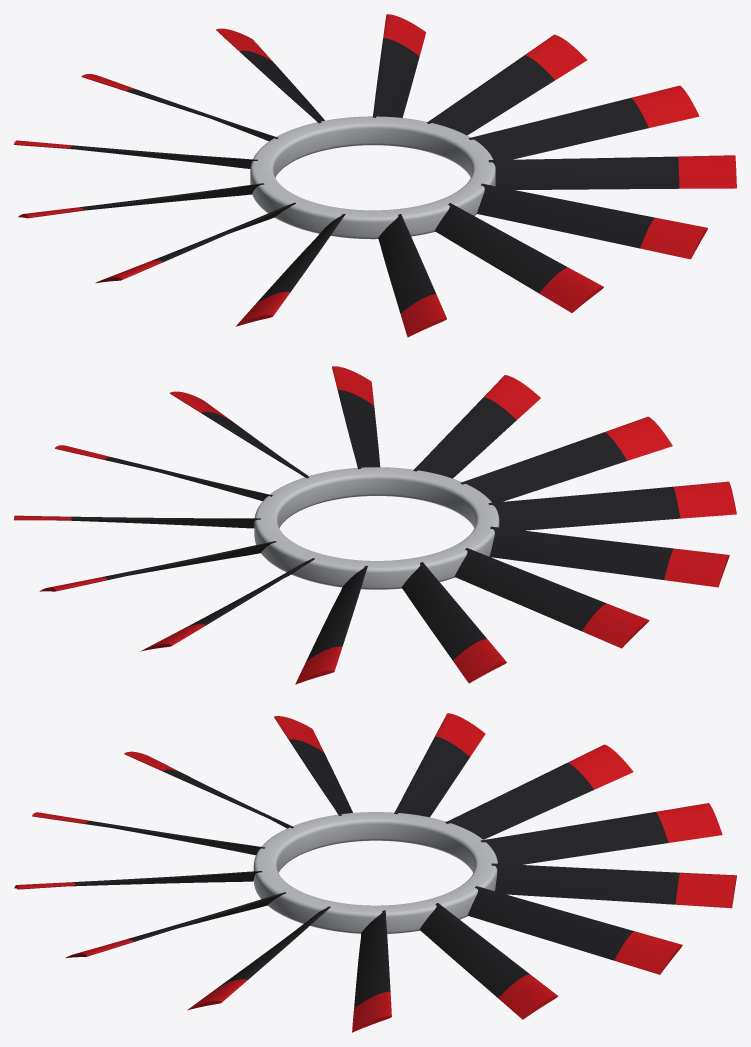
The model's file is x1_fan_upper_ccw.glb.
3 views of the same model, one above another, from view 1: azimuth 30°, elevation 25°; view 2: azimuth 150°, elevation 25°; view 3: azimuth 270°, elevation 25° (orthographic).
Parts seen in each view (by area): view 1: x1_fan_upper_ccw; view 2: x1_fan_upper_ccw; view 3: x1_fan_upper_ccw.
Part boxes in pixels (x1,y1,x2,y2): x1_fan_upper_ccw: [14, 14, 736, 337]; x1_fan_upper_ccw: [14, 366, 736, 684]; x1_fan_upper_ccw: [14, 713, 736, 1032].
Size of the model in its own units: 1.09 by 0.0375 by 1.09.
